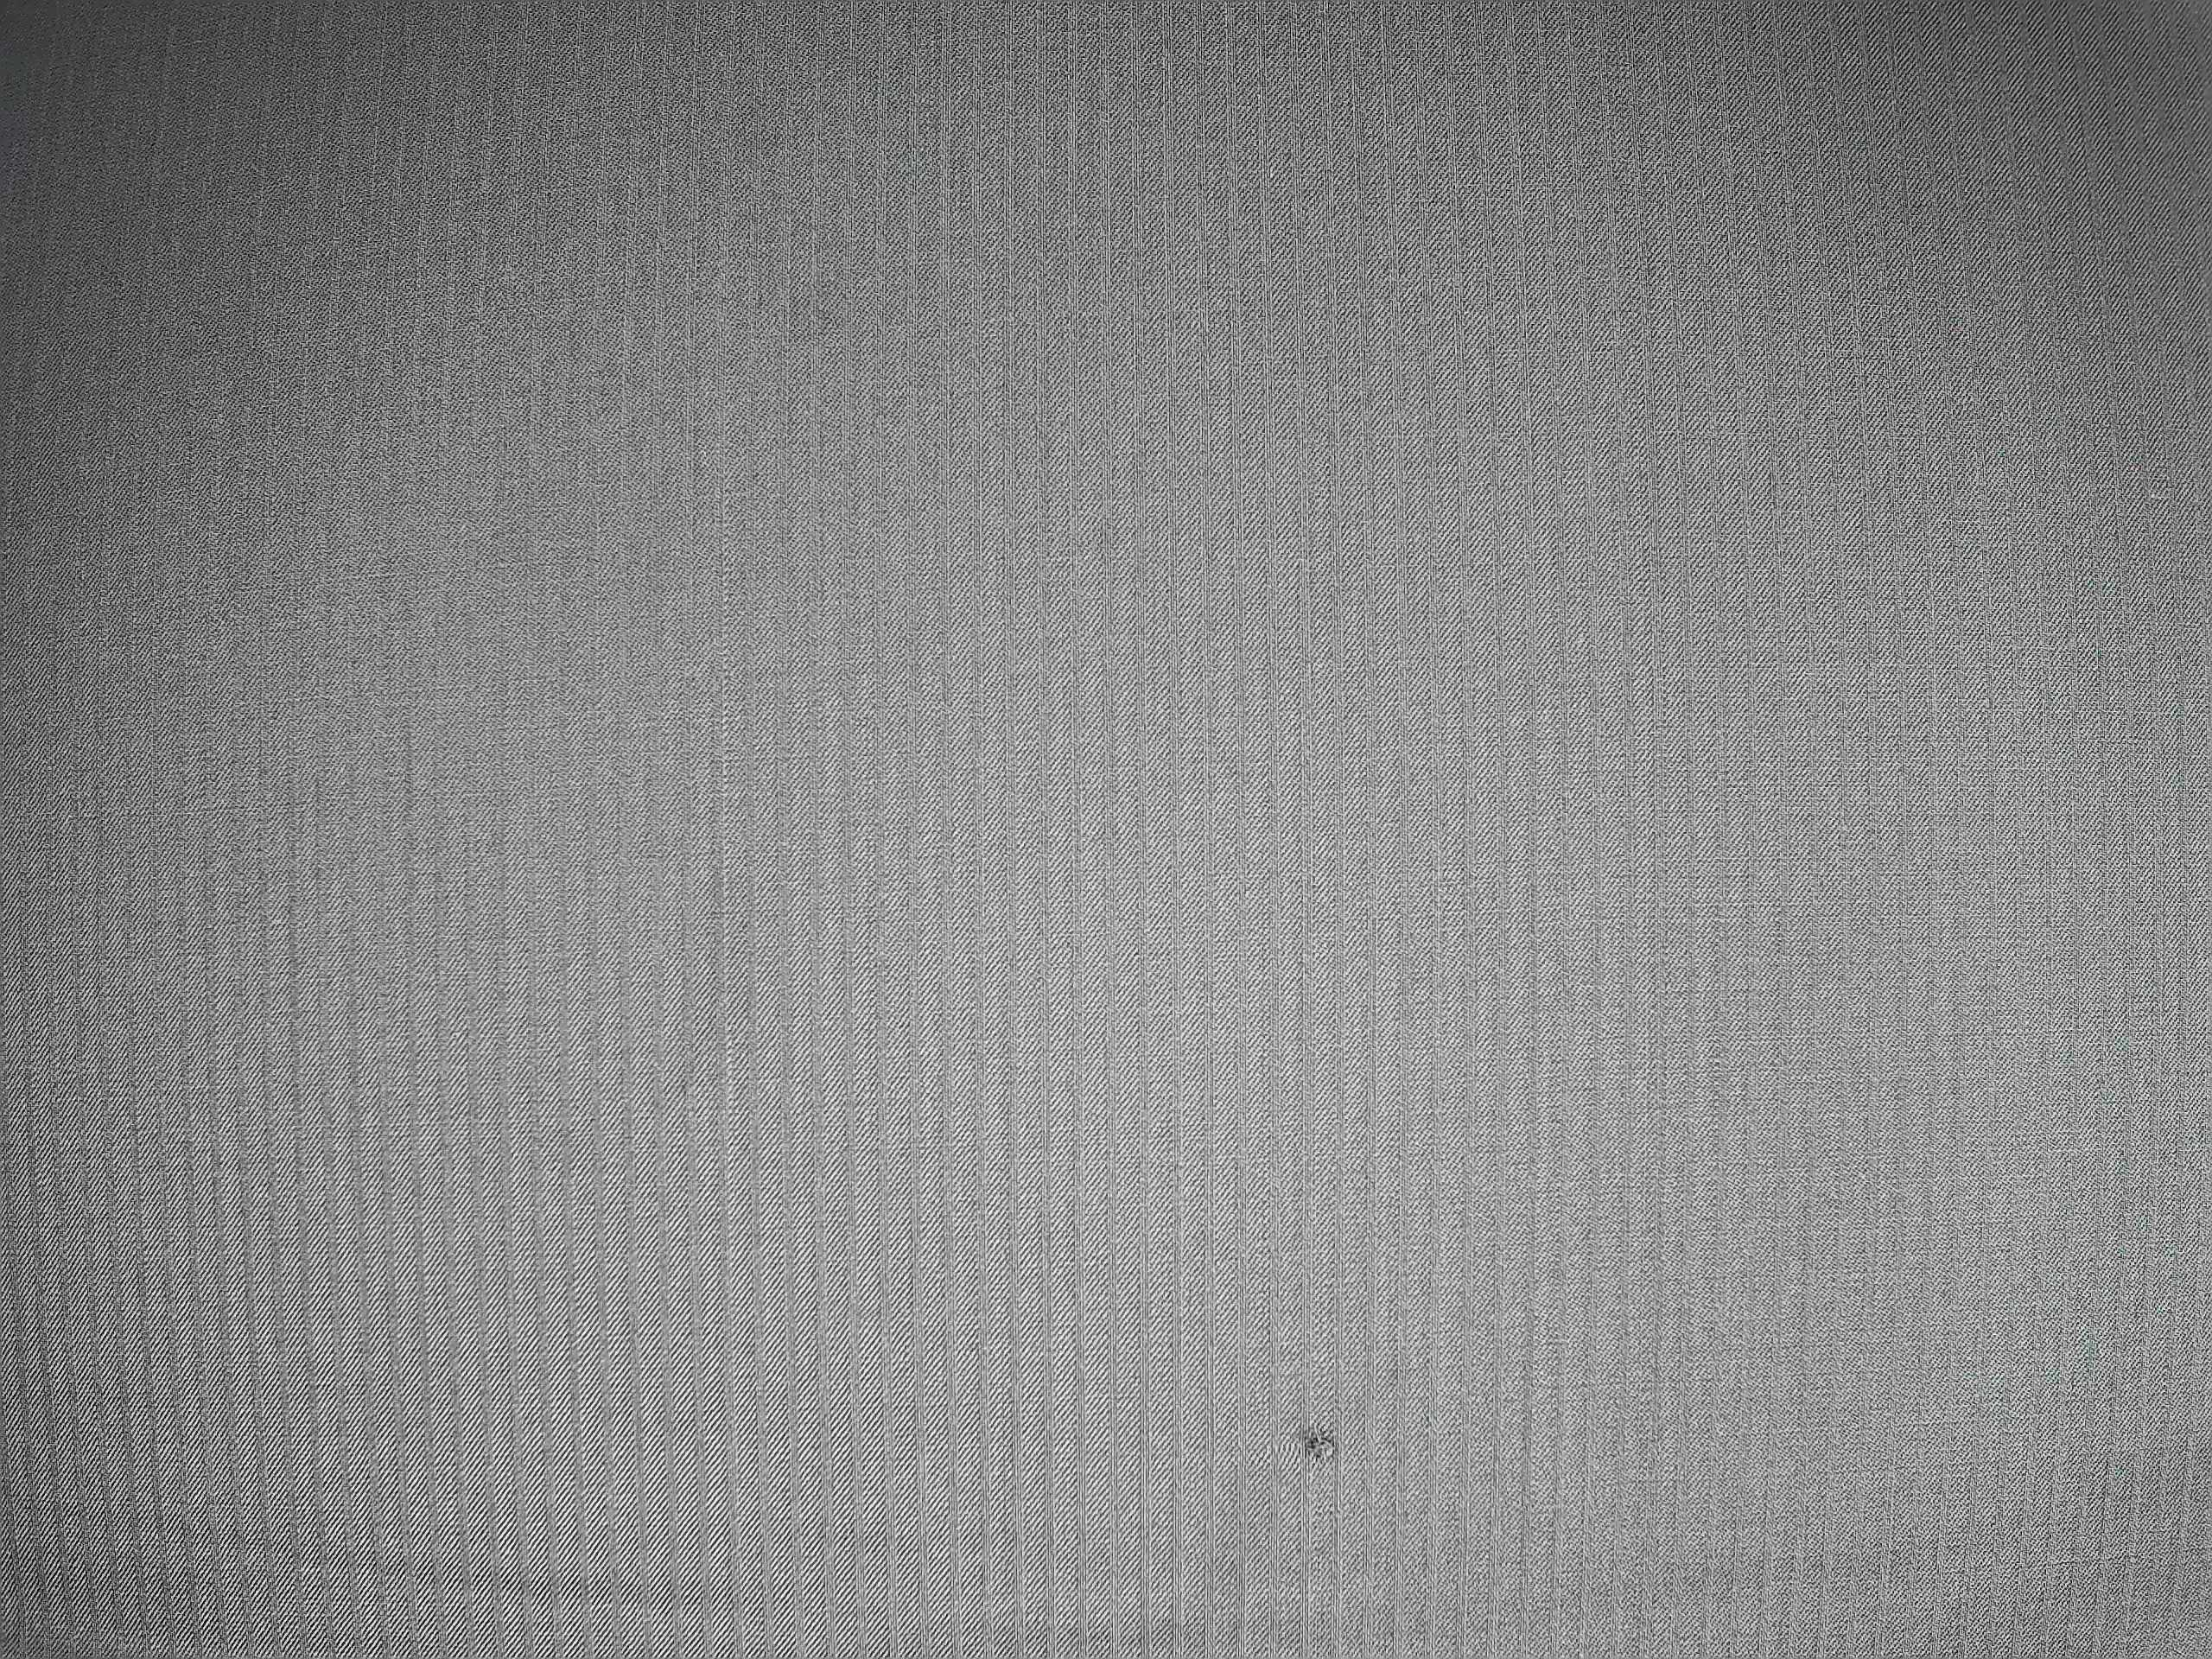others: (1254, 1401, 1364, 1483)
